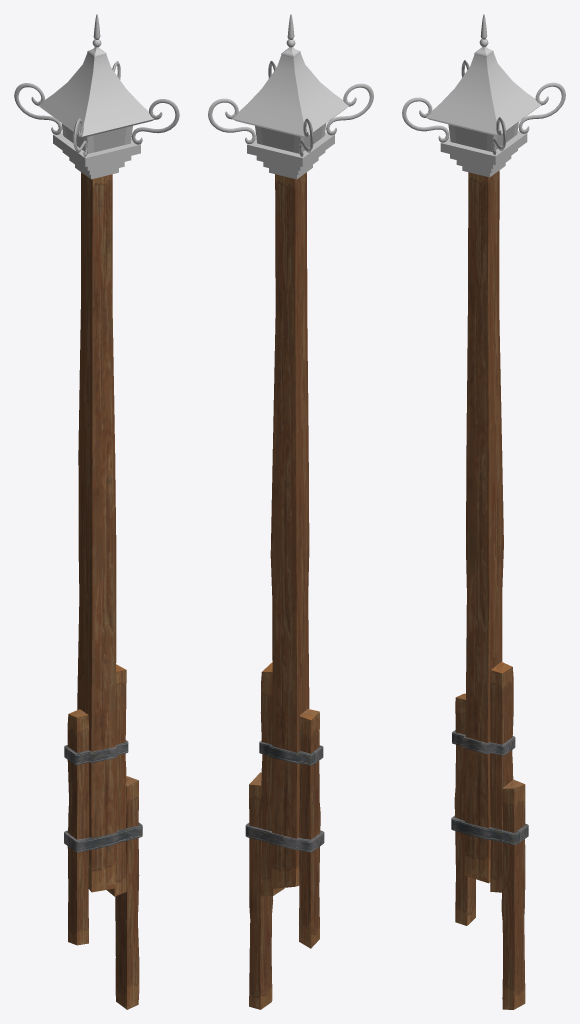
Rendered from SM_Farm_LightPole_02.fbx.
The picture shows the model from 3 angles, left to right: view 1: azimuth 30°, elevation 25°; view 2: azimuth 150°, elevation 25°; view 3: azimuth 330°, elevation 25°; orthographic projection.
Parts seen in each view (by area): view 1: SM_Farm_LightPole_02_LOD0; view 2: SM_Farm_LightPole_02_LOD0; view 3: SM_Farm_LightPole_02_LOD0.
Boxes of the visible parts, x1,y1,x2,y2 form: SM_Farm_LightPole_02_LOD0: (14,14,179,1009); SM_Farm_LightPole_02_LOD0: (208,14,373,1009); SM_Farm_LightPole_02_LOD0: (402,14,565,1009).
Size of what is drawn, in the model's own units: 55.67 by 503 by 55.67.
